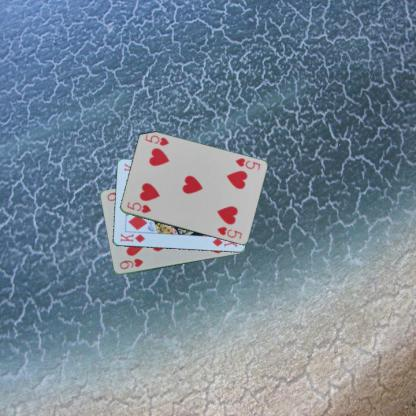5h: (233, 156, 261, 172), (124, 200, 152, 214)
9h: (117, 256, 144, 270)
Kd: (118, 231, 145, 244)
